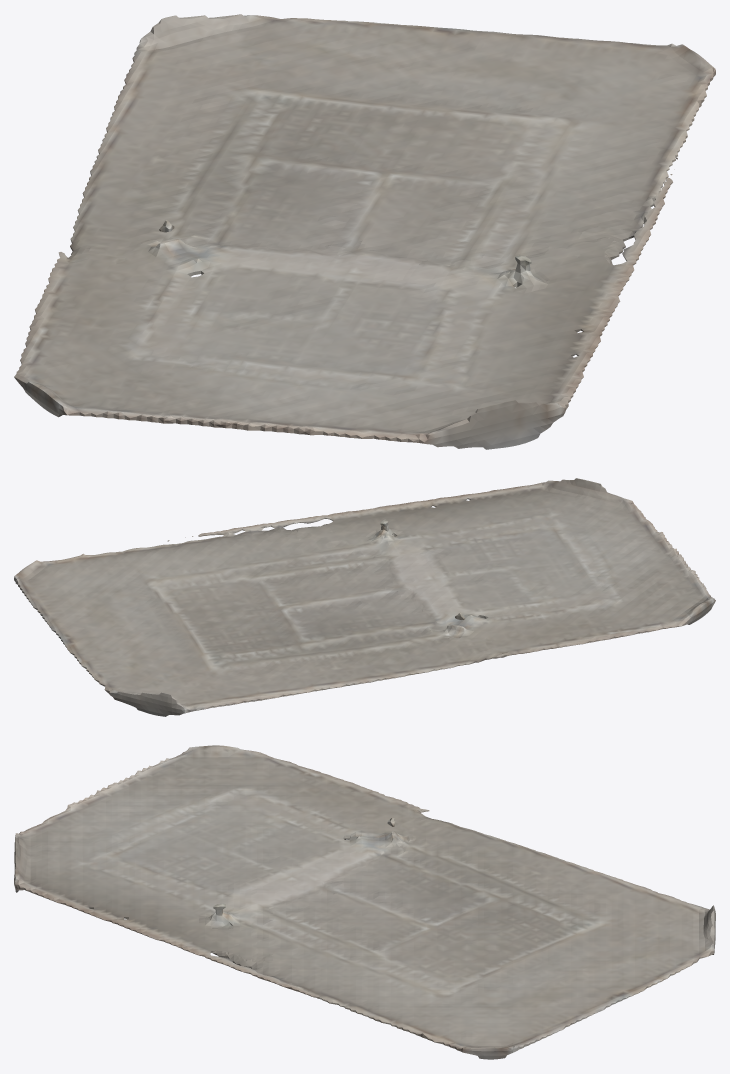
The model's file is pista.glb.
3 views of the same model, one above another, from view 1: azimuth 30°, elevation 25°; view 2: azimuth 150°, elevation 25°; view 3: azimuth 270°, elevation 25° (orthographic). The views are drawn at different scales.
Visible parts, largest first — view 1: world; view 2: world; view 3: world.
Part boxes in pixels (x1=…): world: x1=14, y1=14, x2=715, y2=449; world: x1=14, y1=478, x2=715, y2=716; world: x1=14, y1=745, x2=715, y2=1059.
Size of the model in its own units: 1.98 by 0.1186 by 1.98.
